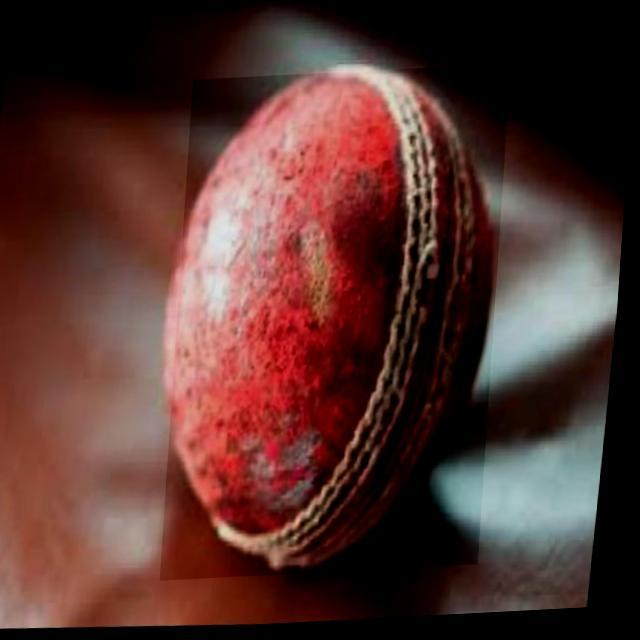Red_Ball: (168, 81, 503, 577)
